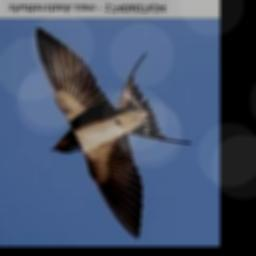Swallow: (35, 26, 191, 240)
